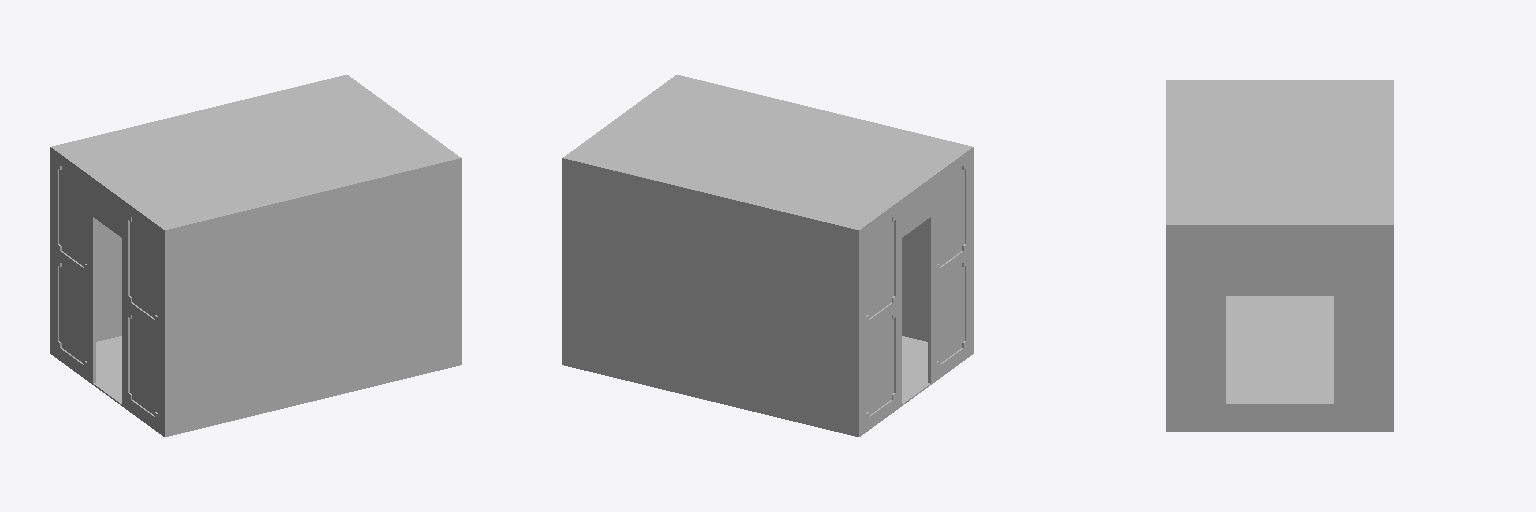
The model's file is Wagon.obj.
3 renders of one model, left to right at view 1: azimuth 30°, elevation 25°; view 2: azimuth 150°, elevation 25°; view 3: azimuth 270°, elevation 25°, orthographic.
Visible parts, largest first — view 1: Wagon.001; view 2: Wagon.001; view 3: Wagon.001.
Part boxes in pixels (bbox=[...]): Wagon.001: bbox=[50, 75, 461, 436]; Wagon.001: bbox=[562, 75, 973, 436]; Wagon.001: bbox=[1166, 80, 1393, 431].
Size of the model in its own units: 3 by 2 by 2.